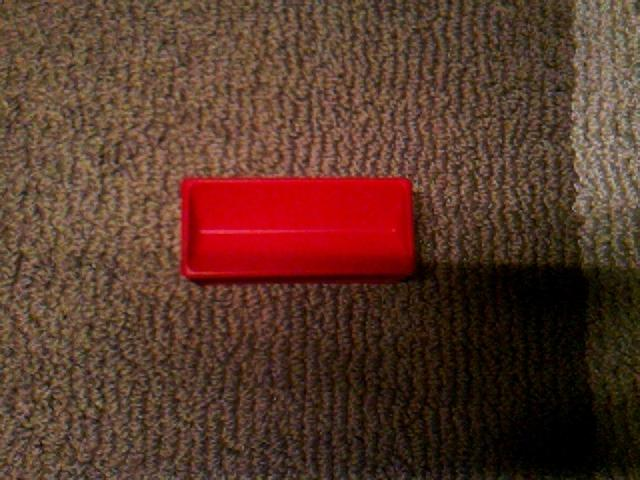red: (180, 176, 417, 285)
